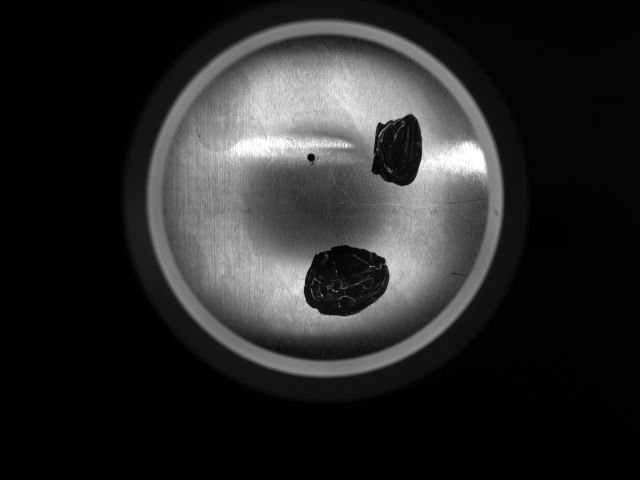zang_wu: (300, 244, 391, 317), (368, 113, 422, 186)
zhen_kong: (304, 151, 319, 164)
